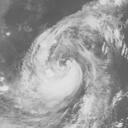cyclone: (16, 2, 116, 116)
